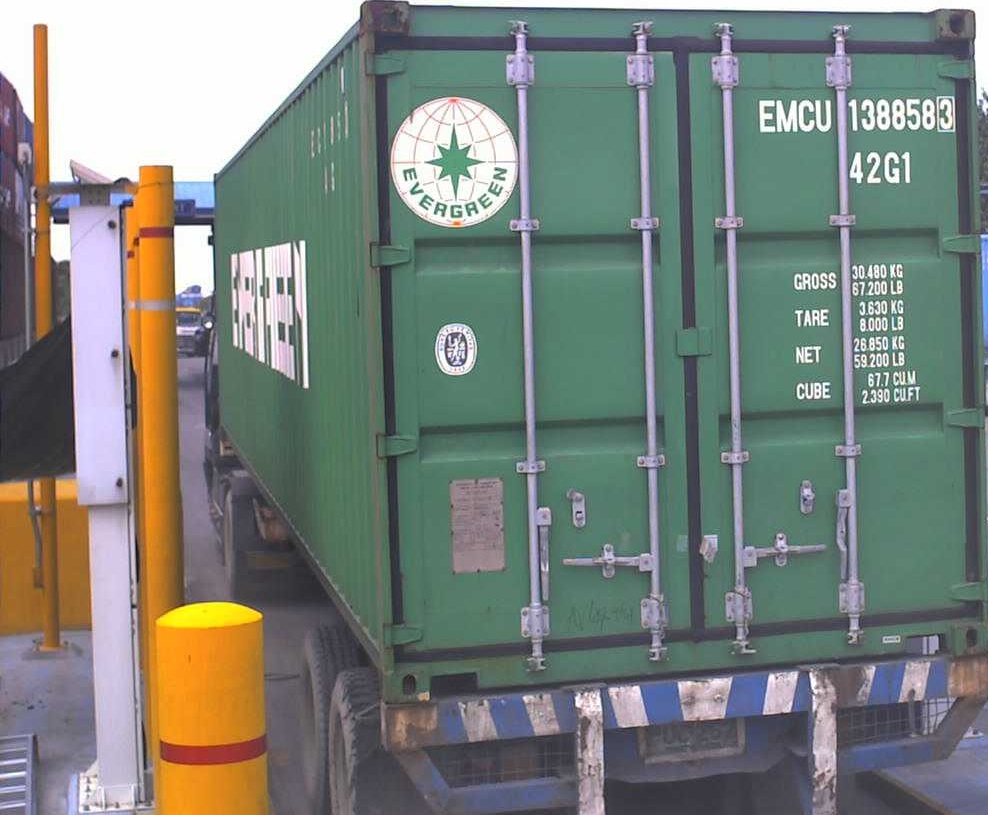container_door: (361, 4, 987, 710)
